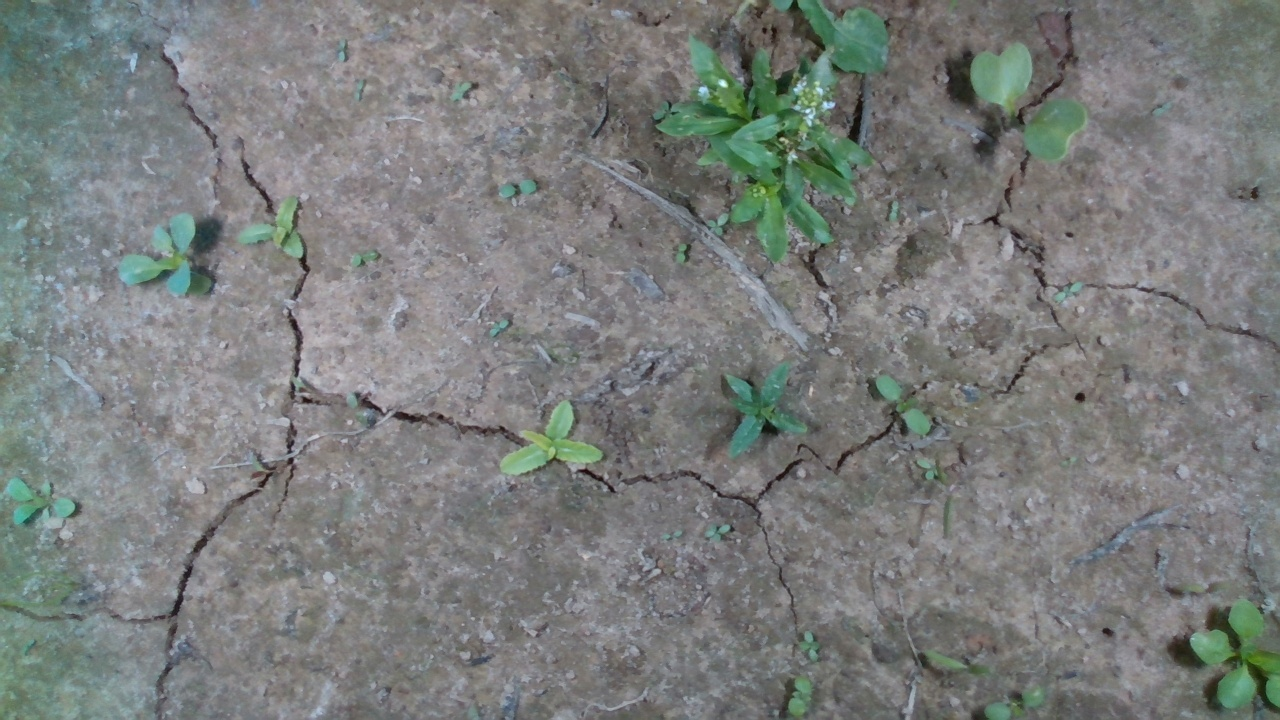weed: (721, 360, 808, 458), (499, 398, 605, 476), (232, 192, 313, 270), (869, 382, 943, 439), (3, 473, 78, 524), (912, 451, 979, 500), (439, 73, 488, 105), (657, 239, 699, 275), (342, 249, 390, 278), (496, 178, 542, 206), (793, 631, 830, 662), (1054, 279, 1093, 307), (880, 192, 903, 231), (702, 205, 728, 235), (331, 32, 350, 63), (347, 74, 368, 97)
